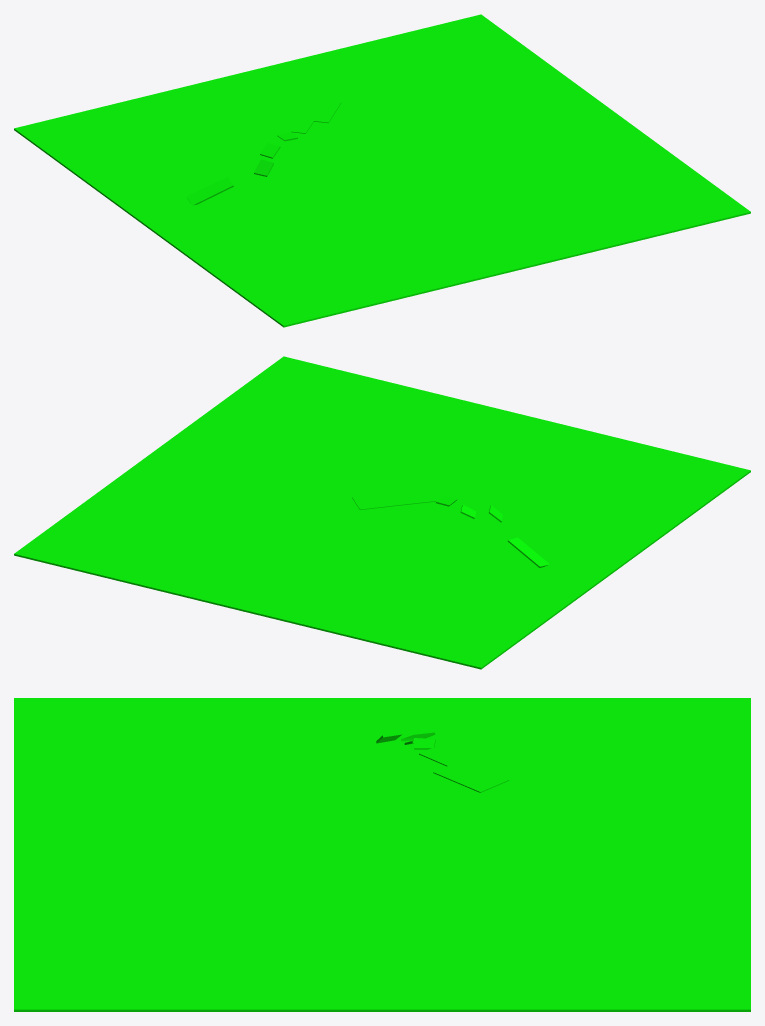
File: Room_5_walkables.fbx
The picture shows the model from 3 angles, top to bottom: view 1: azimuth 30°, elevation 25°; view 2: azimuth 150°, elevation 25°; view 3: azimuth 270°, elevation 25°; orthographic projection. The views are drawn at different scales.
Visible parts, largest first — view 1: Collider_floor001; view 2: Collider_floor001; view 3: Collider_floor001.
Boxes of the visible parts, x1,y1,x2,y2 form: Collider_floor001: (14, 14, 750, 327); Collider_floor001: (14, 356, 750, 669); Collider_floor001: (14, 698, 750, 1011).
Size of the model in its own units: 7000 by 635 by 7000.
